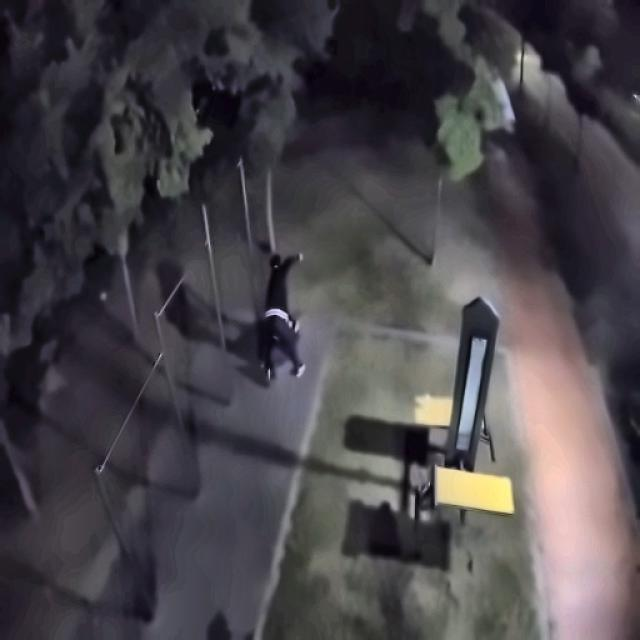violence: (260, 252, 306, 386)
